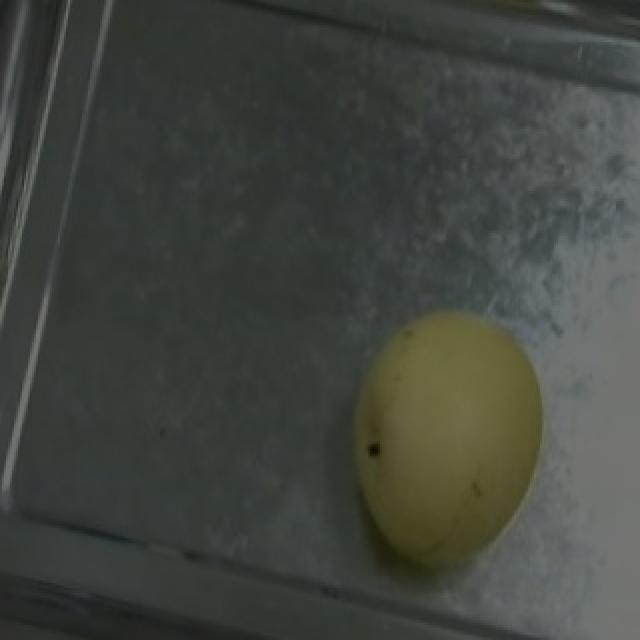Fruit: (314, 278, 570, 590)
